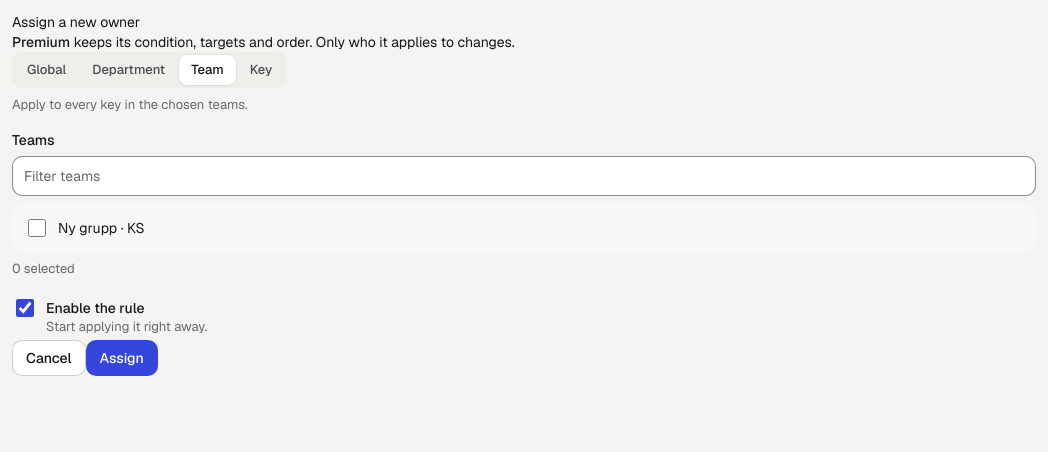
it: ReassignRuleDialog › shows a clash such as a duplicate name inside the dialog
Click the checkbox labelled "Ny grupp · KS" at x=37, y=228, box [28,219,46,237]
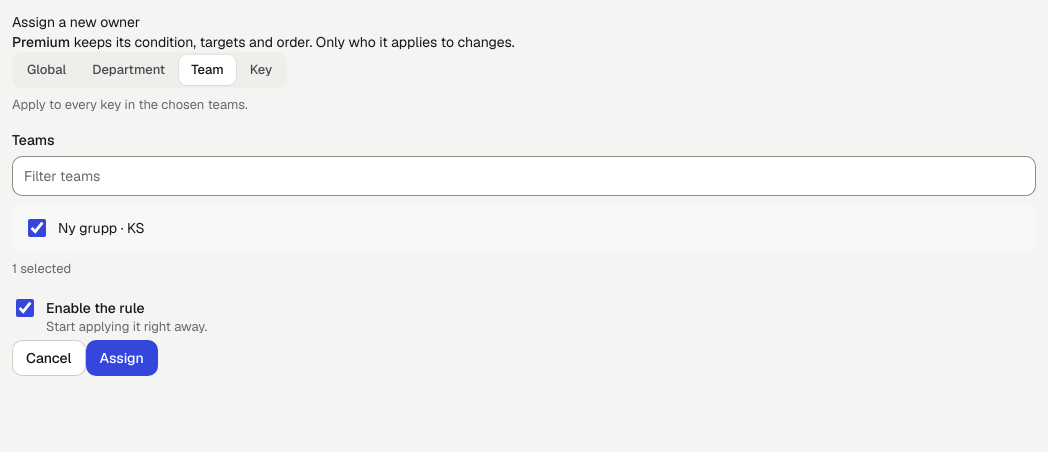
Submit the form
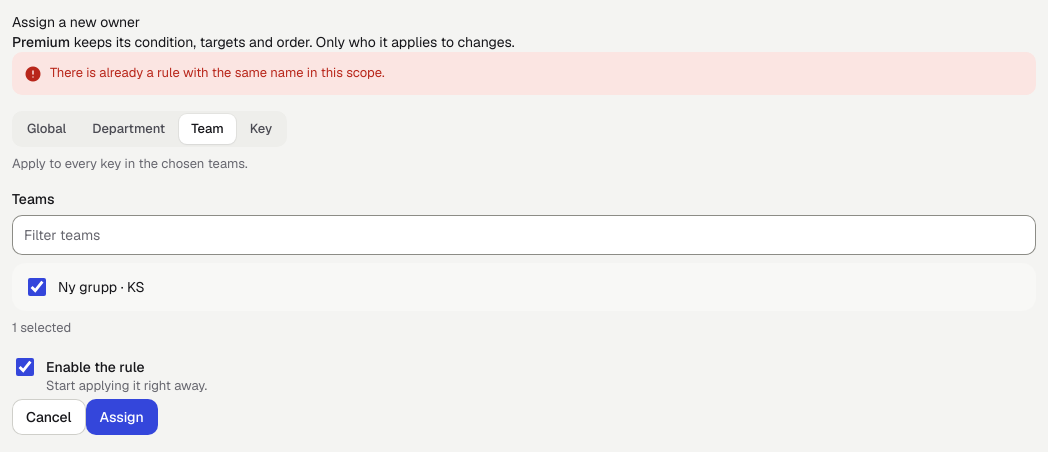
Now the message "There is already a rule with the same name in this scope." is shown, box [12,52,1036,95]
